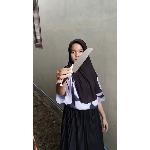Pisau: (58, 48, 95, 86)
